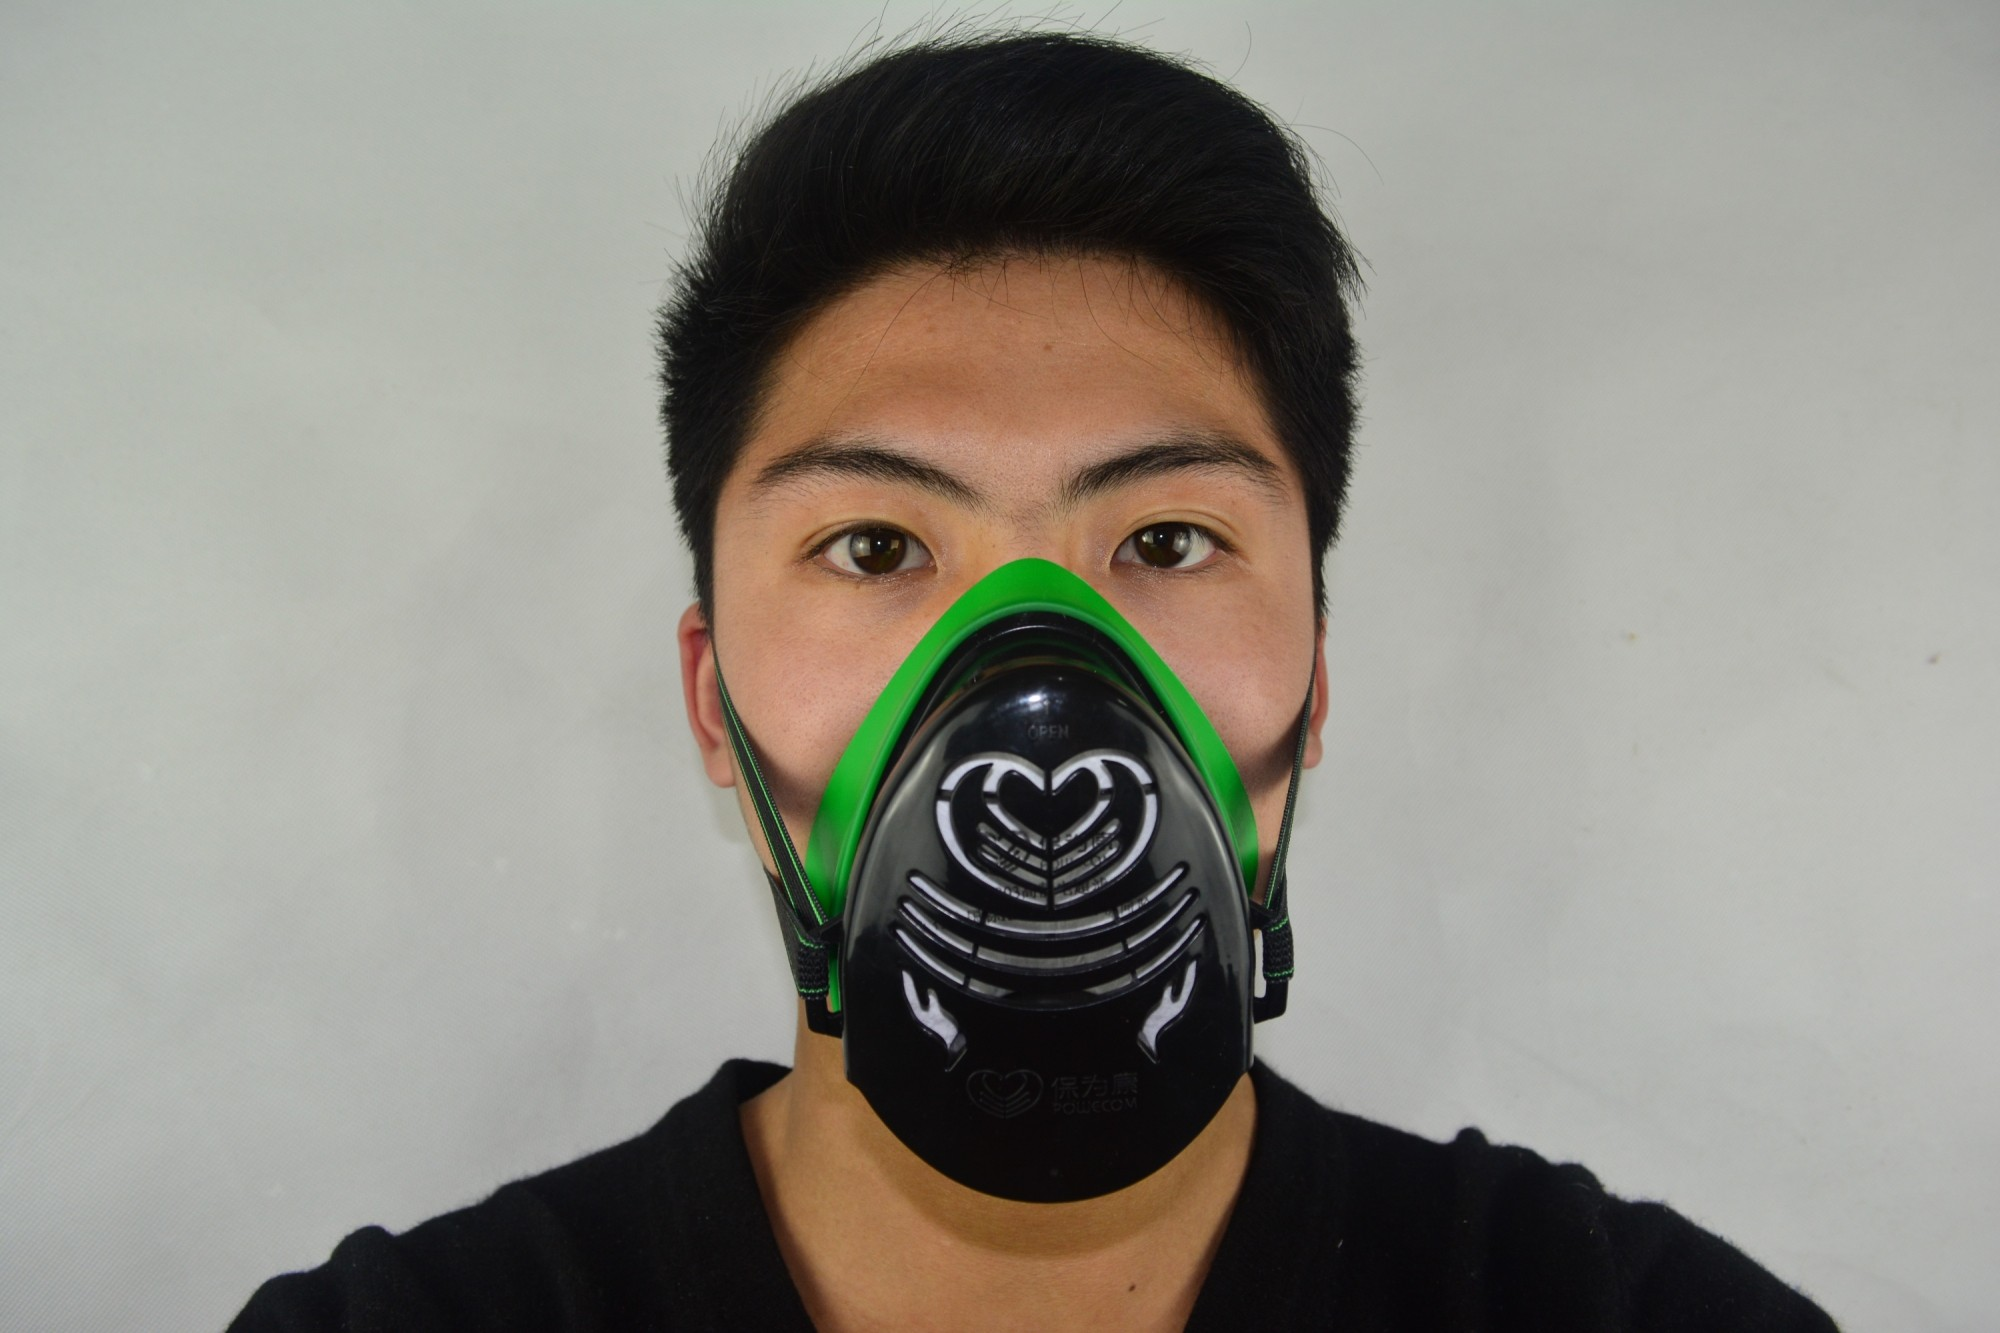face_mask: (728, 265, 1322, 1037)
